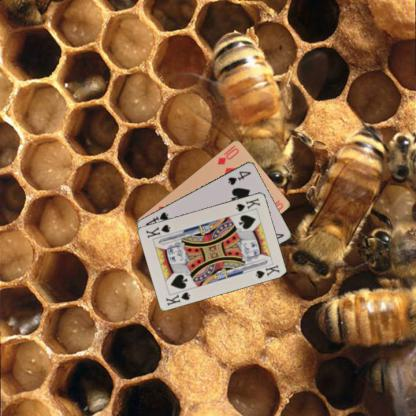10d: (215, 142, 240, 166)
4s: (225, 168, 252, 186)
Ks: (233, 195, 262, 213), (163, 289, 192, 307)
